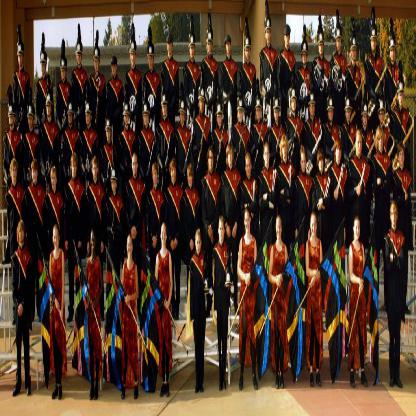face: (245, 212, 251, 234), (311, 217, 317, 238), (355, 220, 361, 240), (357, 134, 362, 157), (32, 164, 38, 183), (209, 149, 214, 171), (51, 172, 57, 190), (266, 26, 272, 44), (133, 156, 138, 177), (196, 233, 201, 254), (301, 153, 306, 174), (106, 125, 112, 142), (336, 145, 342, 162), (399, 148, 405, 165), (72, 158, 77, 178), (54, 229, 59, 249), (128, 237, 133, 257), (277, 220, 282, 240), (239, 104, 244, 123), (228, 147, 233, 166), (247, 159, 252, 178), (12, 165, 17, 183), (190, 41, 195, 59), (200, 96, 205, 114), (188, 169, 193, 187), (162, 227, 167, 245), (257, 103, 262, 121), (292, 95, 297, 113), (265, 147, 270, 165), (392, 209, 397, 227), (29, 112, 34, 129), (95, 55, 100, 72), (144, 109, 149, 126), (93, 162, 98, 179), (91, 234, 96, 251), (208, 37, 213, 54), (218, 110, 223, 127), (172, 164, 177, 181), (154, 167, 159, 184), (246, 45, 251, 62), (364, 110, 369, 127), (282, 143, 288, 157), (378, 135, 384, 149), (390, 46, 396, 60), (77, 50, 82, 66), (19, 225, 24, 241), (149, 53, 154, 69), (163, 100, 168, 116), (220, 221, 224, 241), (372, 34, 377, 50), (310, 101, 315, 117), (329, 106, 334, 122), (399, 90, 404, 106), (19, 51, 24, 66), (131, 50, 136, 65), (352, 44, 357, 59), (319, 156, 324, 171), (86, 110, 91, 124), (124, 111, 129, 125), (286, 31, 291, 45), (319, 39, 324, 53), (112, 175, 116, 192), (181, 108, 185, 125), (275, 104, 279, 121), (347, 105, 351, 122), (112, 62, 117, 75), (42, 59, 46, 75), (47, 100, 51, 116), (381, 108, 385, 124), (10, 112, 15, 124), (337, 35, 341, 50), (62, 65, 66, 79), (69, 109, 73, 123), (168, 39, 172, 53), (303, 49, 307, 63), (227, 40, 231, 52)
